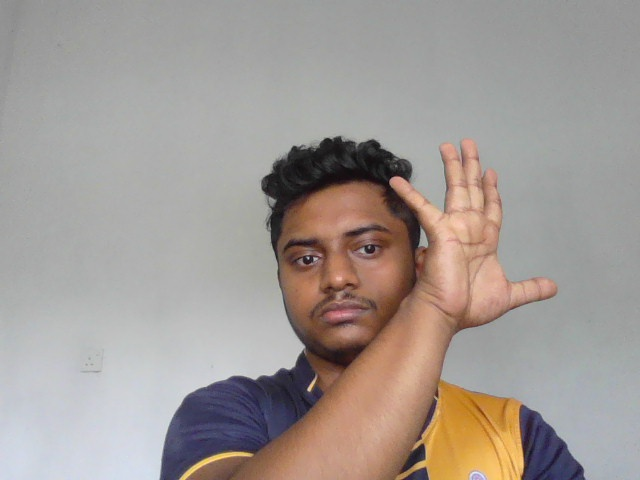Hello: (389, 136, 562, 325)
